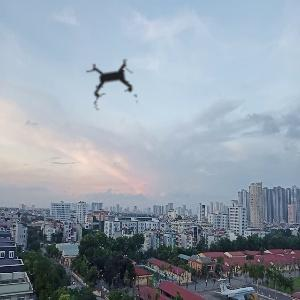drone: (63, 32, 165, 134)
